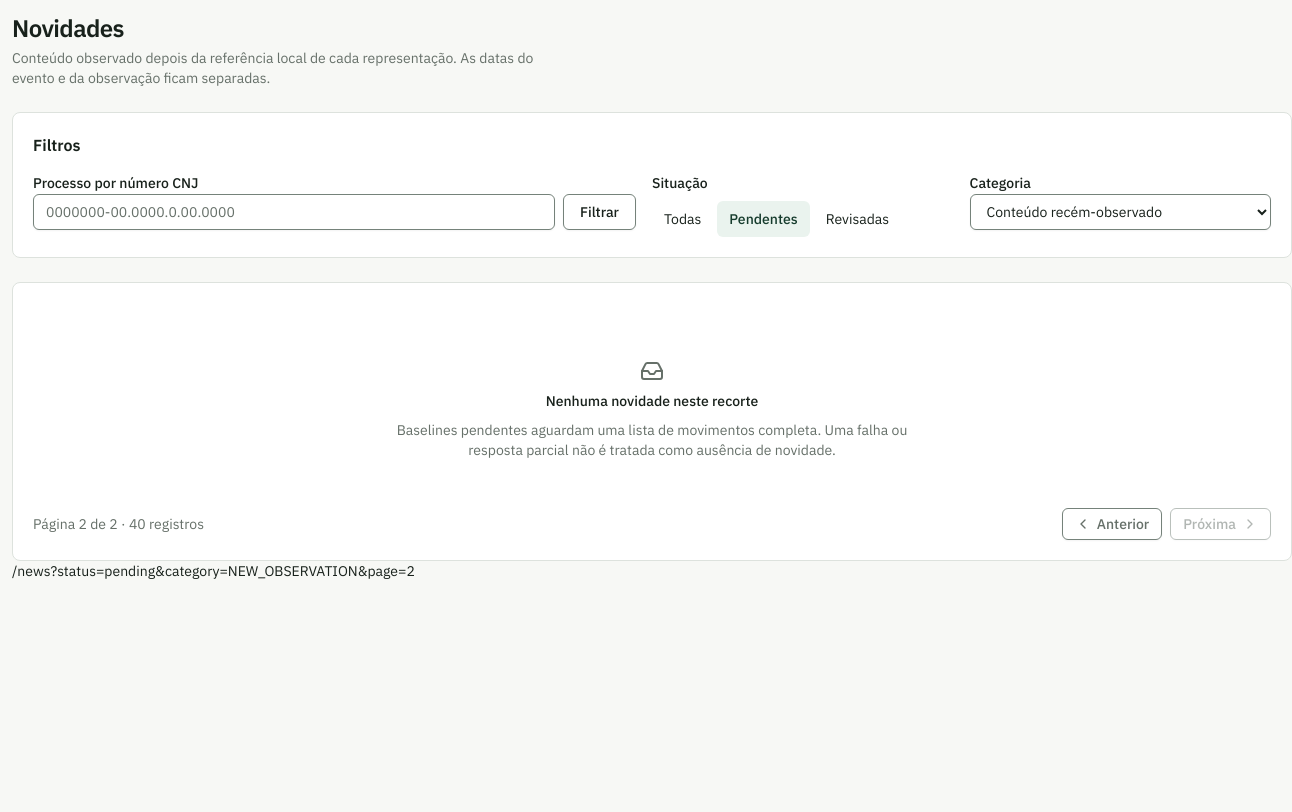
Scenario: NewsPage › loads URL filters and resets pagination when the process filter changes
Expected: the text "Nenhuma novidade neste recorte" is shown, [546,391,758,412]
Type "0000001-00.2026.8.09.0001" into the field labelled "Processo por número CNJ" at (294, 212), box [33,194,555,230]
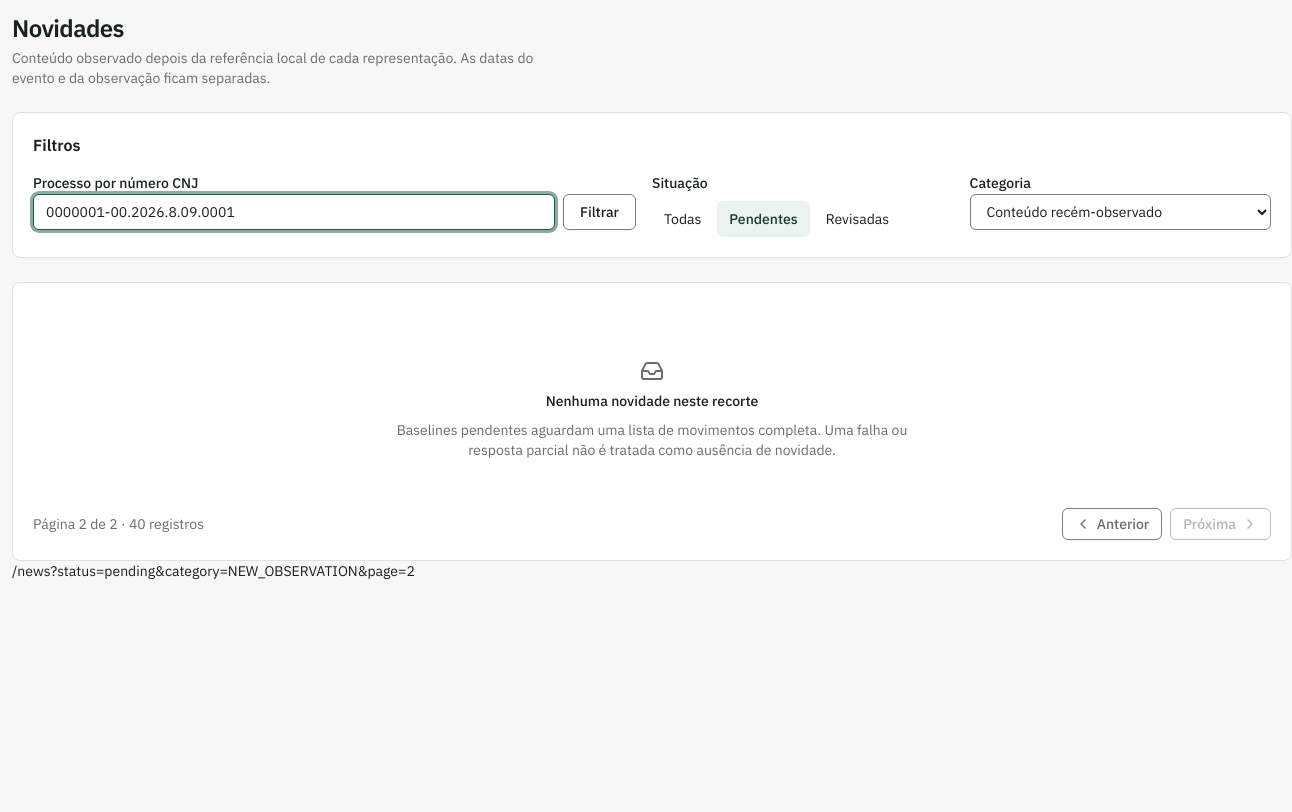
Click the button "Filtrar" at (600, 212), box [563,194,636,230]
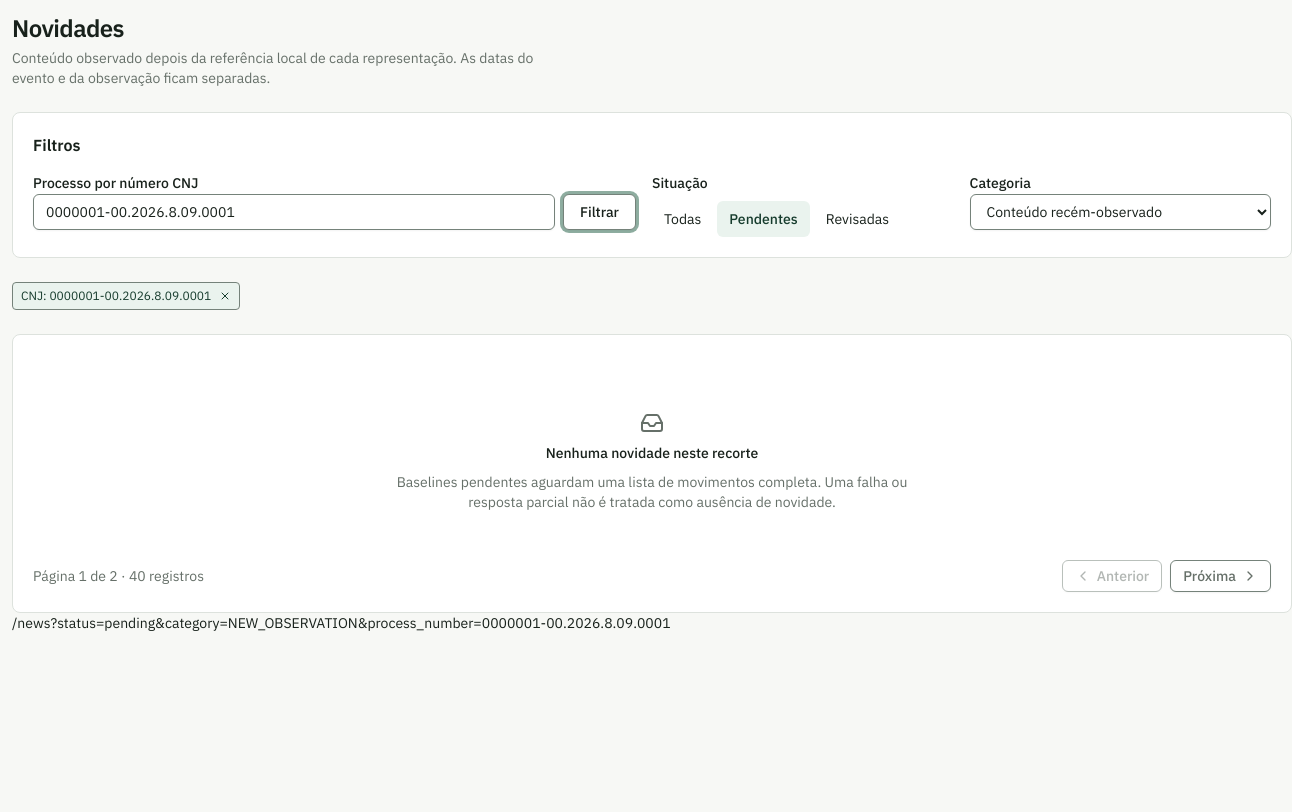
Expected: the text with test id "location" shows "process_number=", [12,614,671,632]
Expected: the text with test id "location" no longer shows "page=2", [12,614,671,632]
